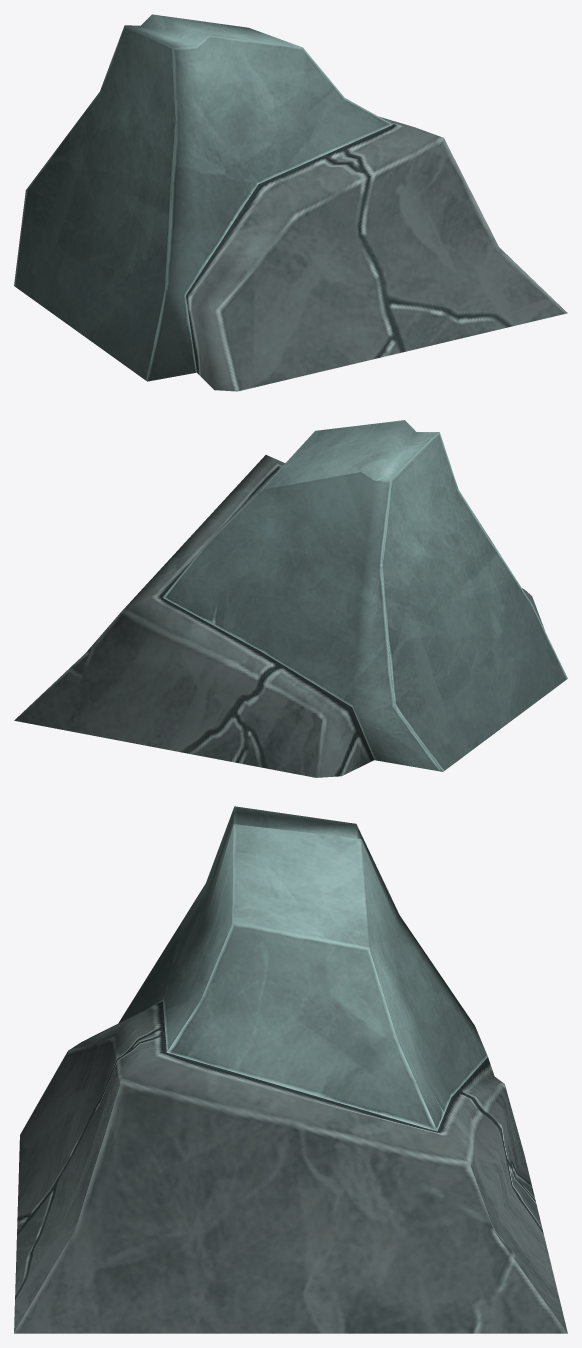
File: Rock 10.fbx
3 renders of one model, top to bottom at view 1: azimuth 30°, elevation 25°; view 2: azimuth 150°, elevation 25°; view 3: azimuth 270°, elevation 25°, orthographic. The views are drawn at different scales.
Parts seen in each view (by area): view 1: pPlane10; view 2: pPlane10; view 3: pPlane10.
Boxes of the visible parts, x1,y1,x2,y2 form: pPlane10: (14,14,567,391); pPlane10: (14,420,567,777); pPlane10: (14,806,567,1333).
Bounding box in the file's own units: 6.8 × 4.67 × 6.78.
